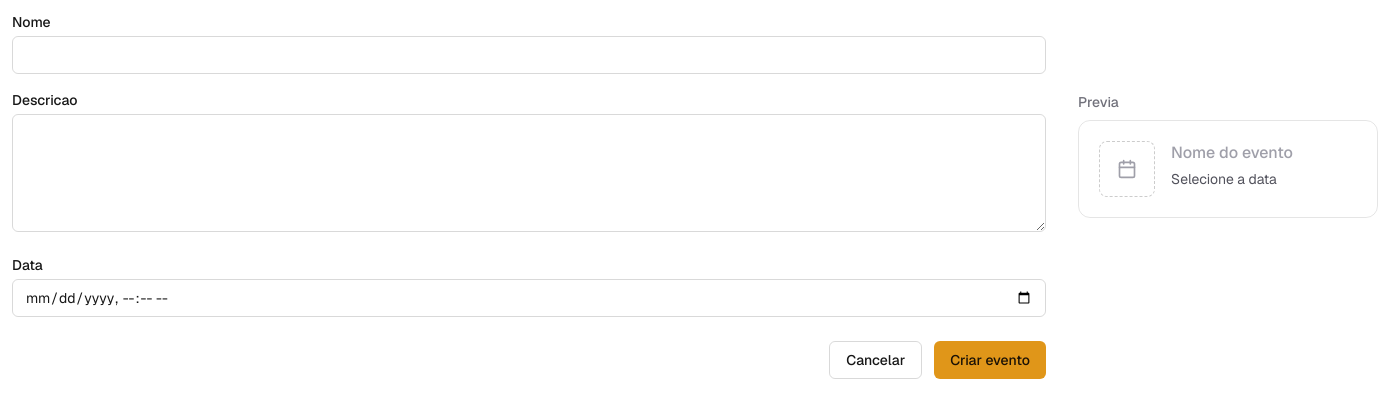
Test: CreateEventForm › bloqueia duplo envio enquanto a requisicao esta em andamento
This screenshot has width=1378, height=396.
In the field labelled "Nome": (529, 55) left=12, top=36, right=1046, bottom=74, type "Show de TI"
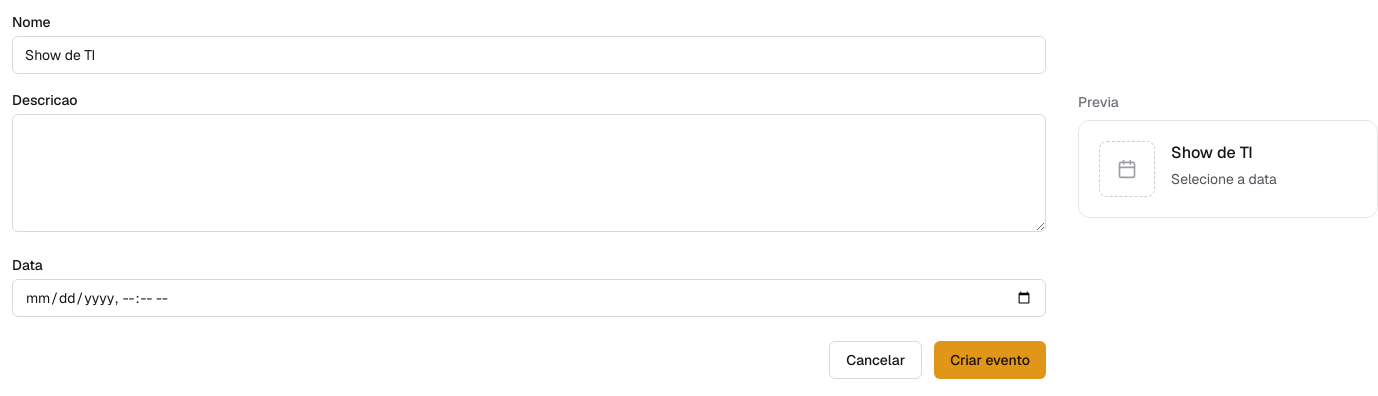
In the text box labelled "Descricao": (529, 173) left=12, top=114, right=1046, bottom=232, type "Evento anual"
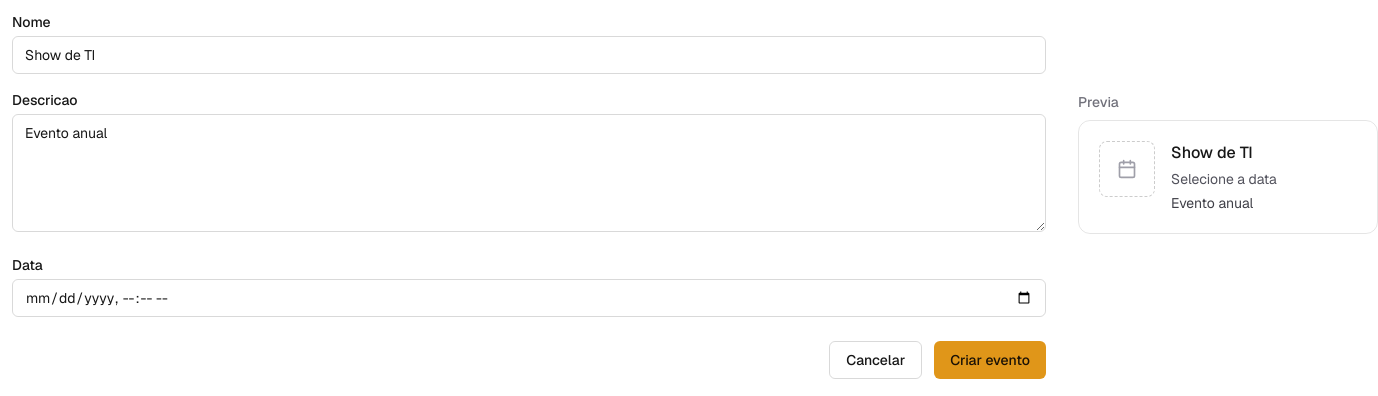
In the field labelled "Data": (529, 298) left=12, top=279, right=1046, bottom=317, type "2026-06-08T14:30"
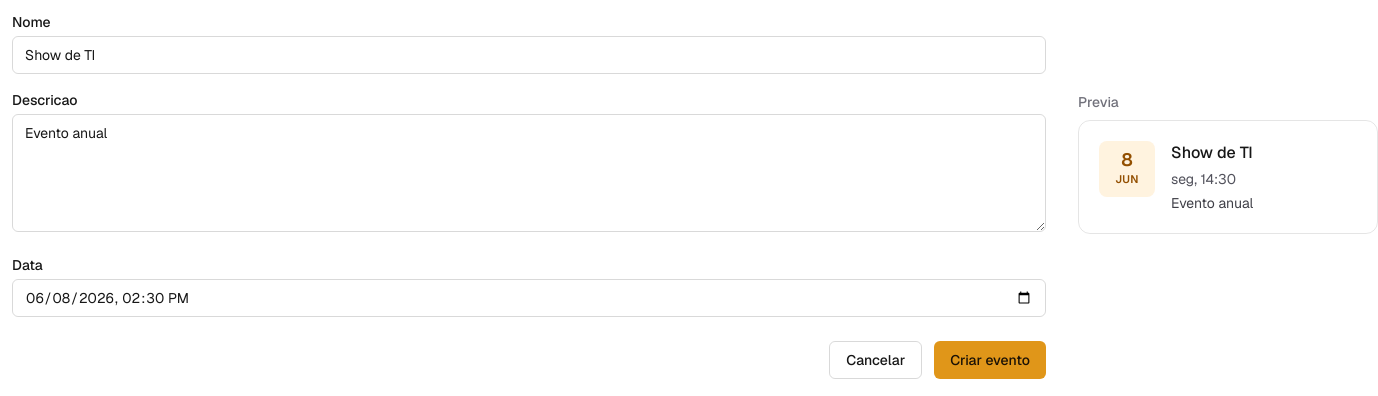
Click the button "Criar evento": (990, 360) left=934, top=341, right=1046, bottom=379
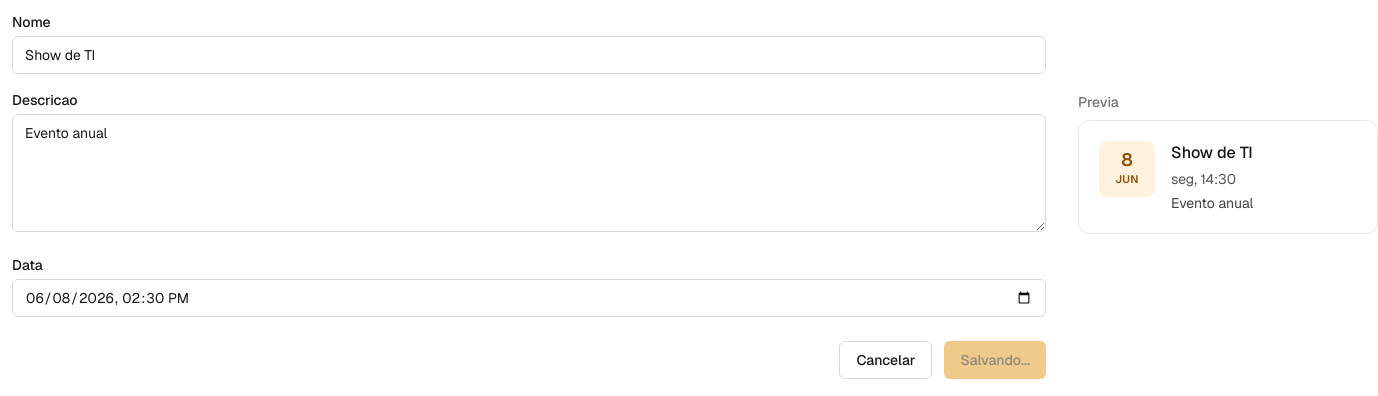
Click the button named "criar evento": (995, 360) left=944, top=341, right=1046, bottom=379
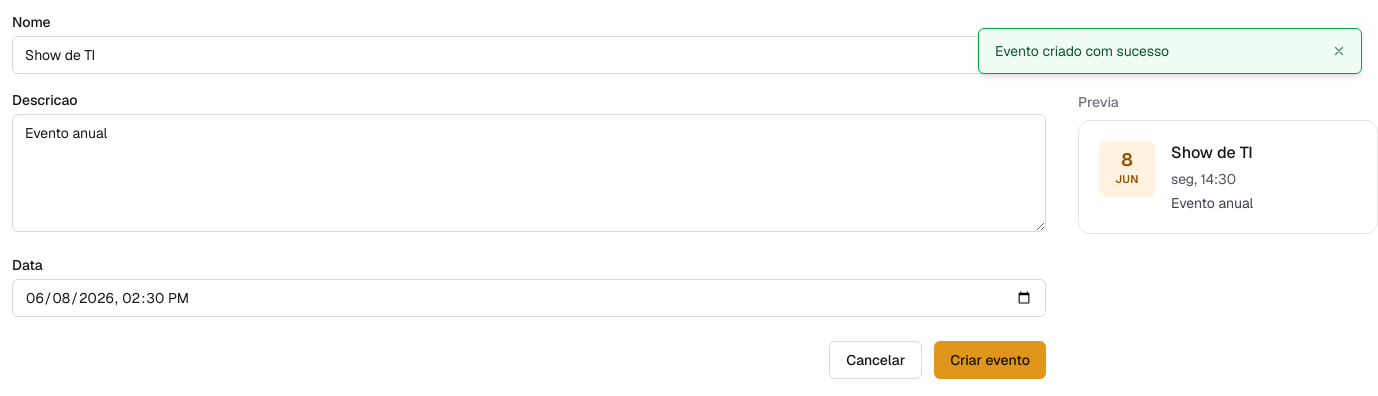
Expected: the text "Evento criado com sucesso" is shown, left=995, top=42, right=1169, bottom=60
